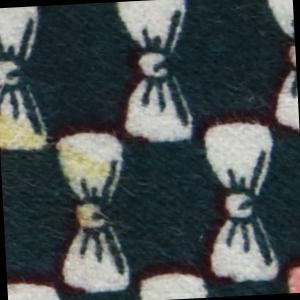Stain: (1, 107, 116, 237), (276, 252, 300, 295)
